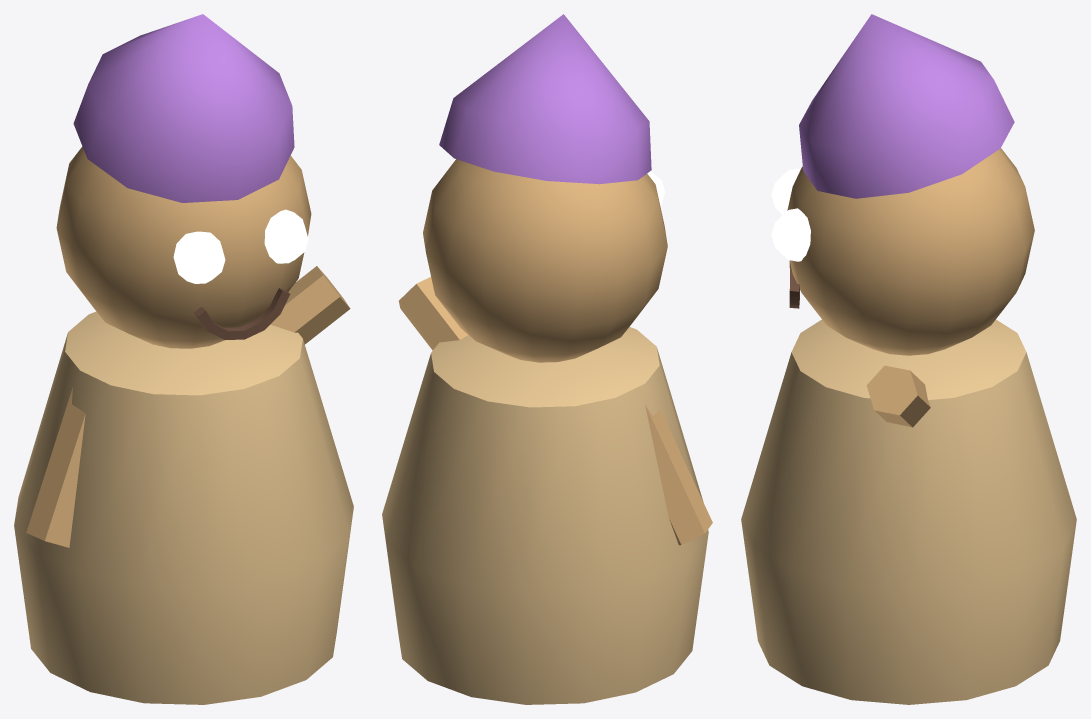
Rendered from CreepyDoll_C.fbx.
3 views of the same model, side by side, from view 1: azimuth 30°, elevation 25°; view 2: azimuth 150°, elevation 25°; view 3: azimuth 270°, elevation 25° (orthographic). The views are drawn at different scales.
Parts seen in each view (by area): view 1: CreepyDoll_C; view 2: CreepyDoll_C; view 3: CreepyDoll_C.
Part boxes in pixels (x1,y1,x2,y2): CreepyDoll_C: [14, 14, 353, 704]; CreepyDoll_C: [382, 14, 712, 704]; CreepyDoll_C: [741, 14, 1076, 704].
Bounding box in the file's own units: 2.14 × 4.12 × 2.
